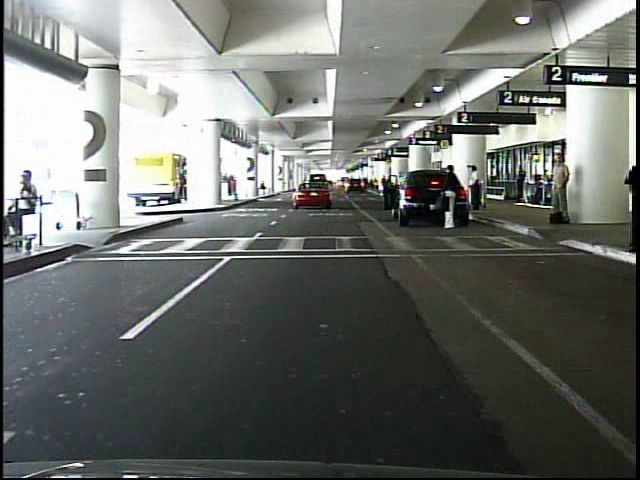person: (5, 167, 44, 239), (442, 165, 461, 231), (466, 164, 482, 212), (515, 162, 528, 201)
